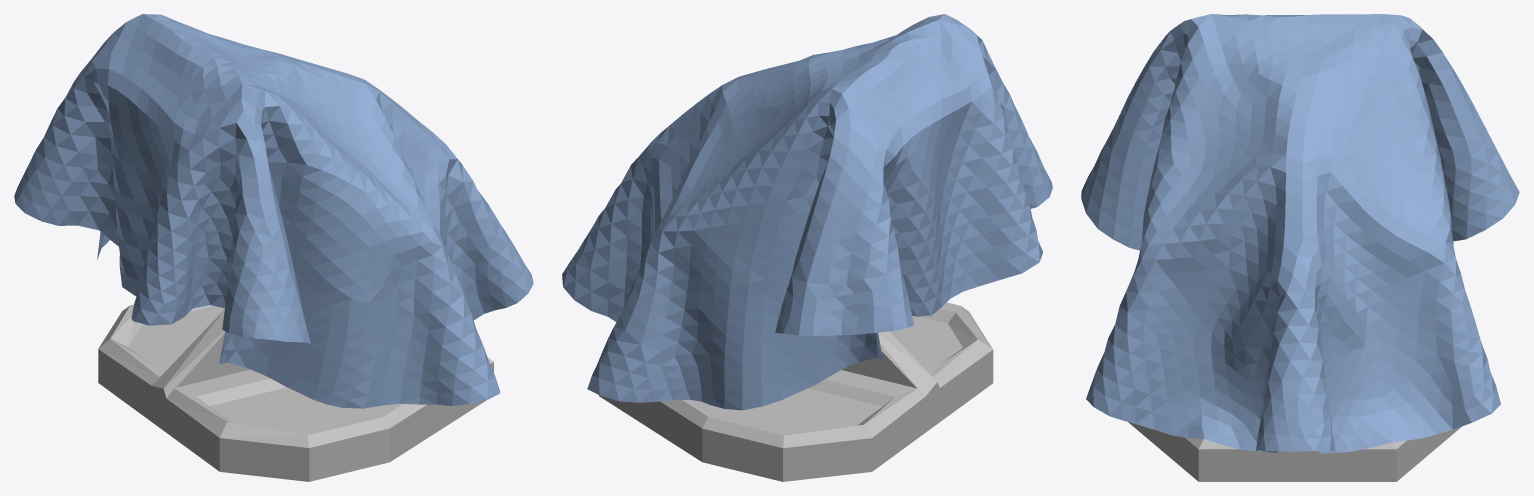
The model's file is level_1.glb.
The picture shows the model from 3 angles, left to right: view 1: azimuth 30°, elevation 25°; view 2: azimuth 150°, elevation 25°; view 3: azimuth 270°, elevation 25°; orthographic projection. The views are drawn at different scales.
Visible parts, largest first — view 1: world, object.obj; view 2: world, object.obj; view 3: world, object.obj.
Part boxes in pixels (left/top/right/bottom): world: left=14, top=14, right=533, bottom=408; object.obj: left=98, top=304, right=493, bottom=481; world: left=562, top=14, right=1052, bottom=410; object.obj: left=599, top=302, right=993, bottom=481; world: left=1081, top=14, right=1519, bottom=453; object.obj: left=1128, top=422, right=1461, bottom=481.
Bounding box in the file's own units: 0.3724 × 0.3024 × 0.3403.
